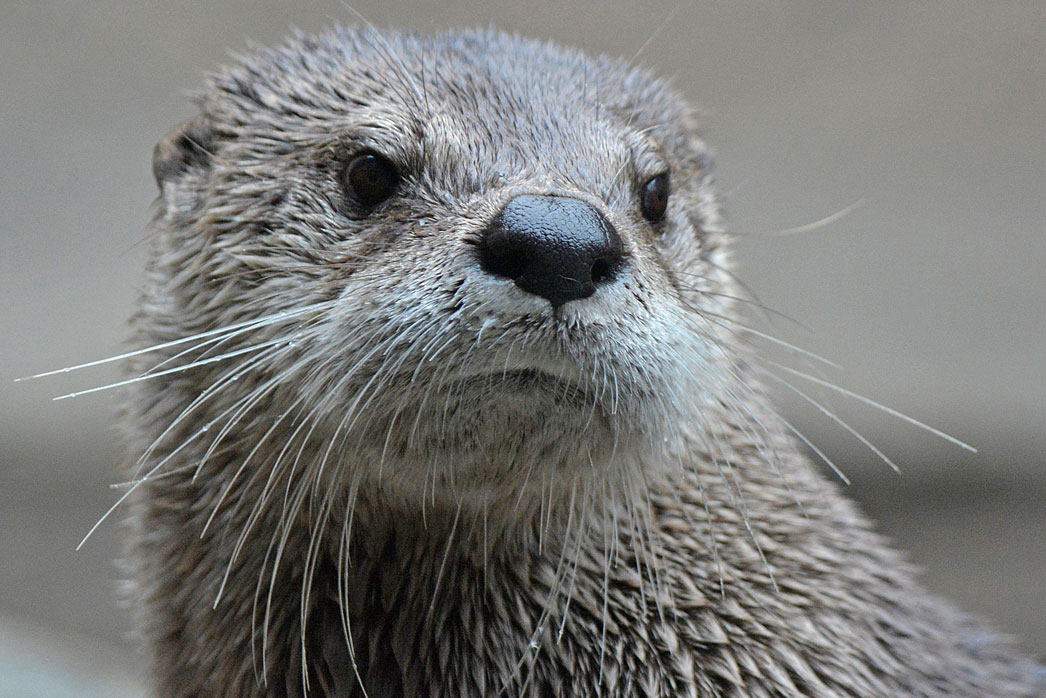otter: (99, 29, 924, 698)
